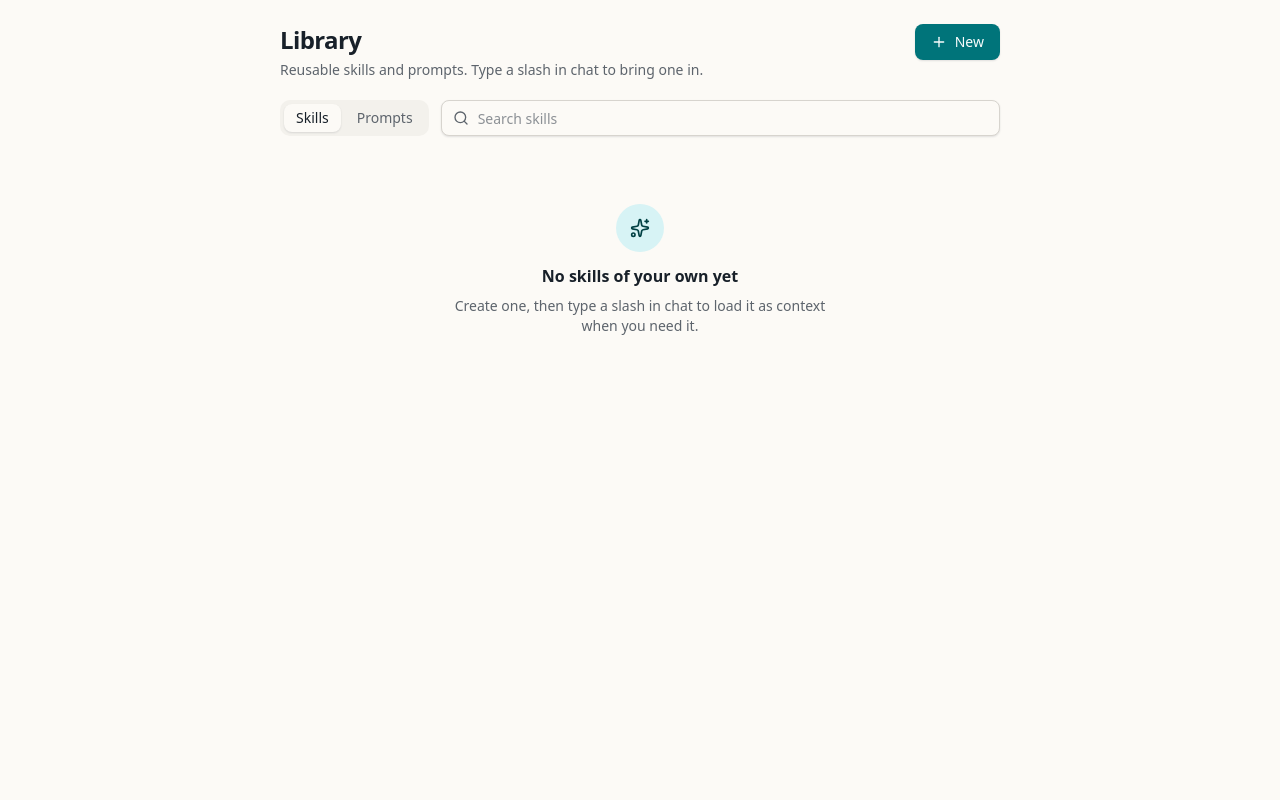
Test: prompts tab › deletes after confirmation and closes at once
Expected: the heading "No skills of your own yet" is shown, top-left (542, 264), bottom-right (738, 288)
Click the tab "Prompts" at {"x": 385, "y": 118}, box top-left (345, 104), bottom-right (425, 132)
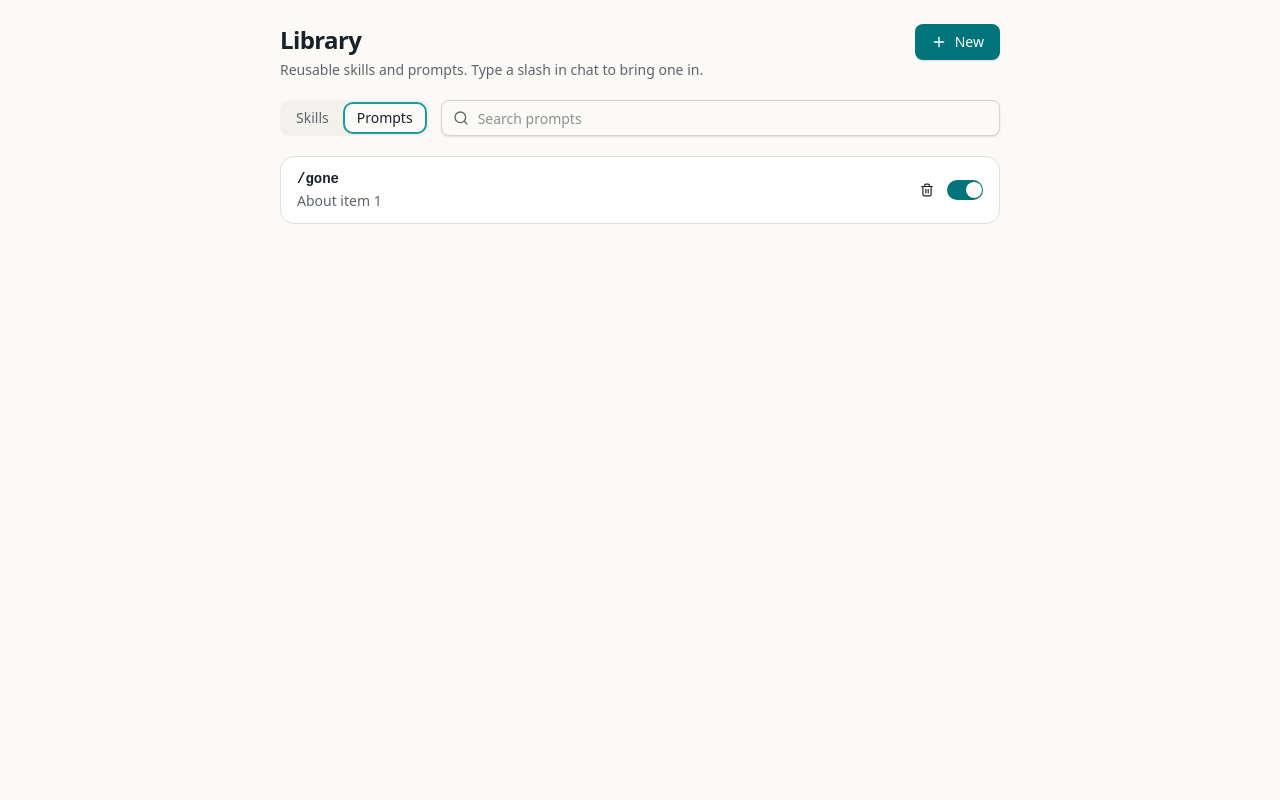
Expected: the text "/gone" is shown, top-left (297, 169), bottom-right (339, 189)
Click the button named "Delete gone" at {"x": 927, "y": 190}, box top-left (915, 178), bottom-right (939, 202)
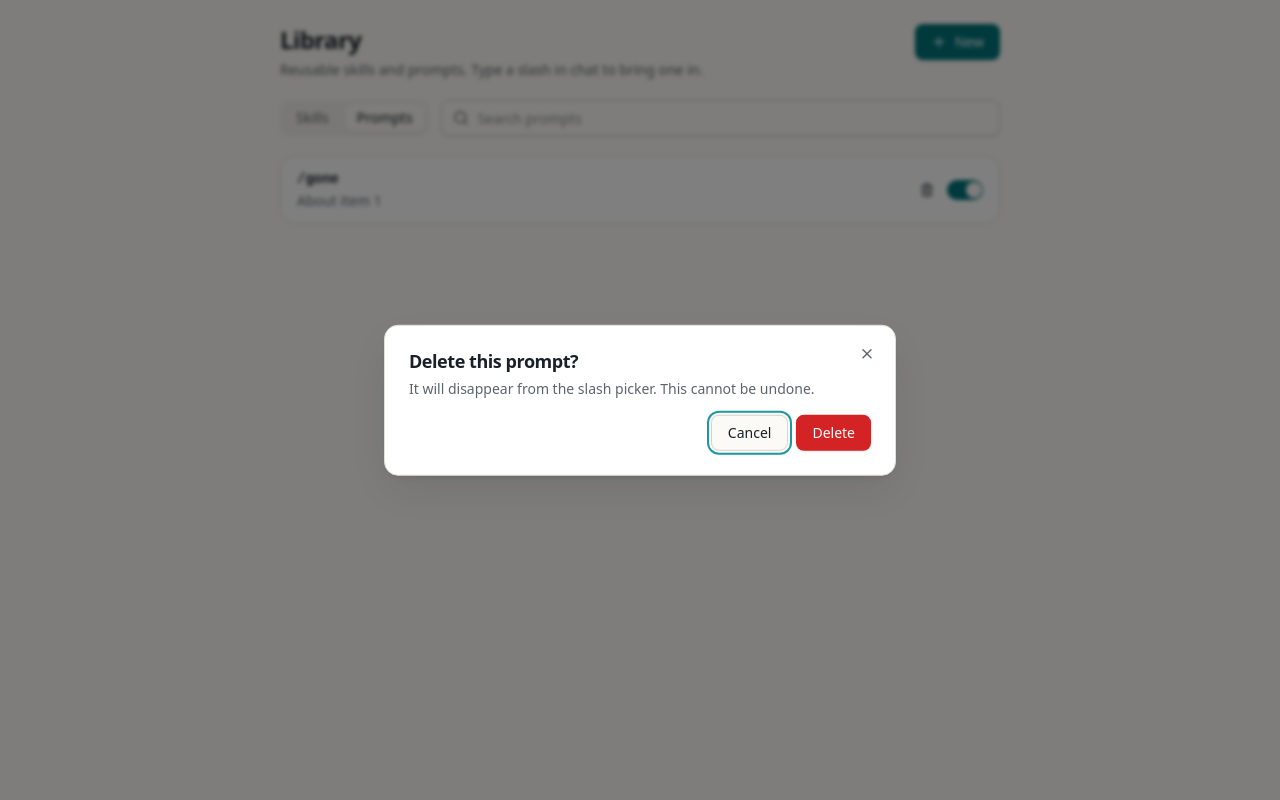
Click the button "Delete" at {"x": 834, "y": 432}, box top-left (796, 414), bottom-right (871, 450)
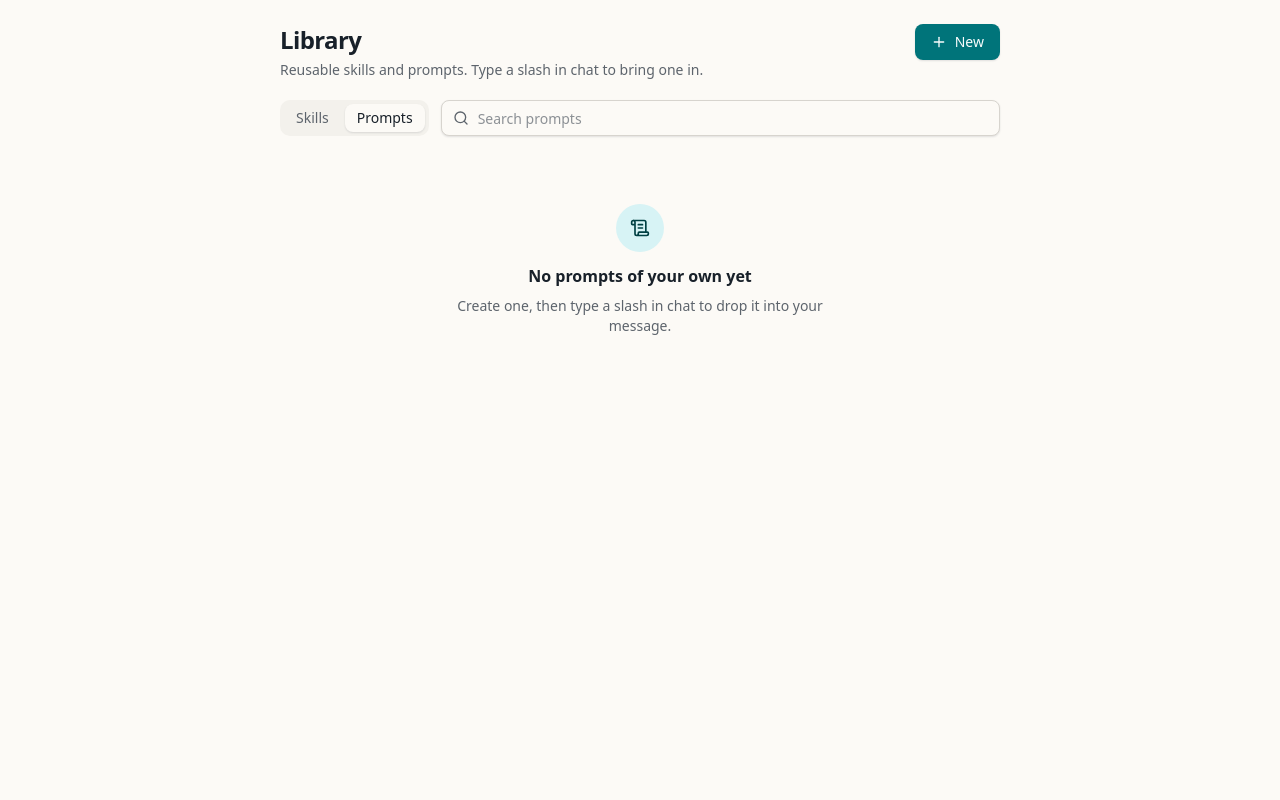
Expected: the button "/gone" is gone
